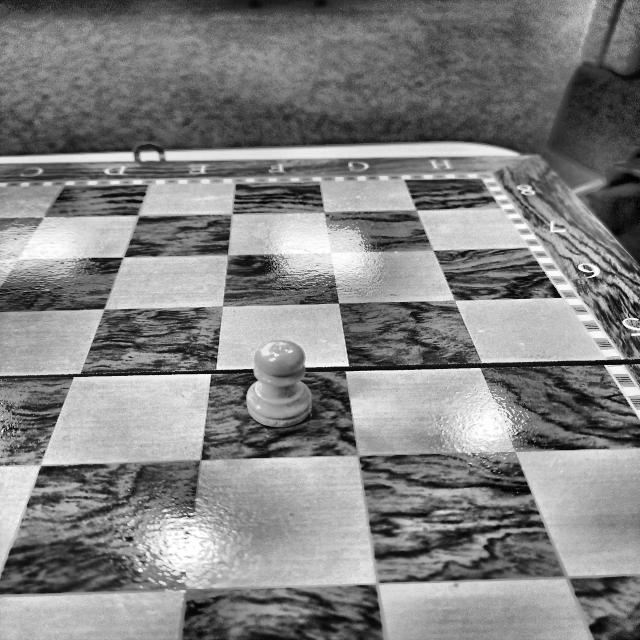white-pawn: (247, 340, 313, 428)
